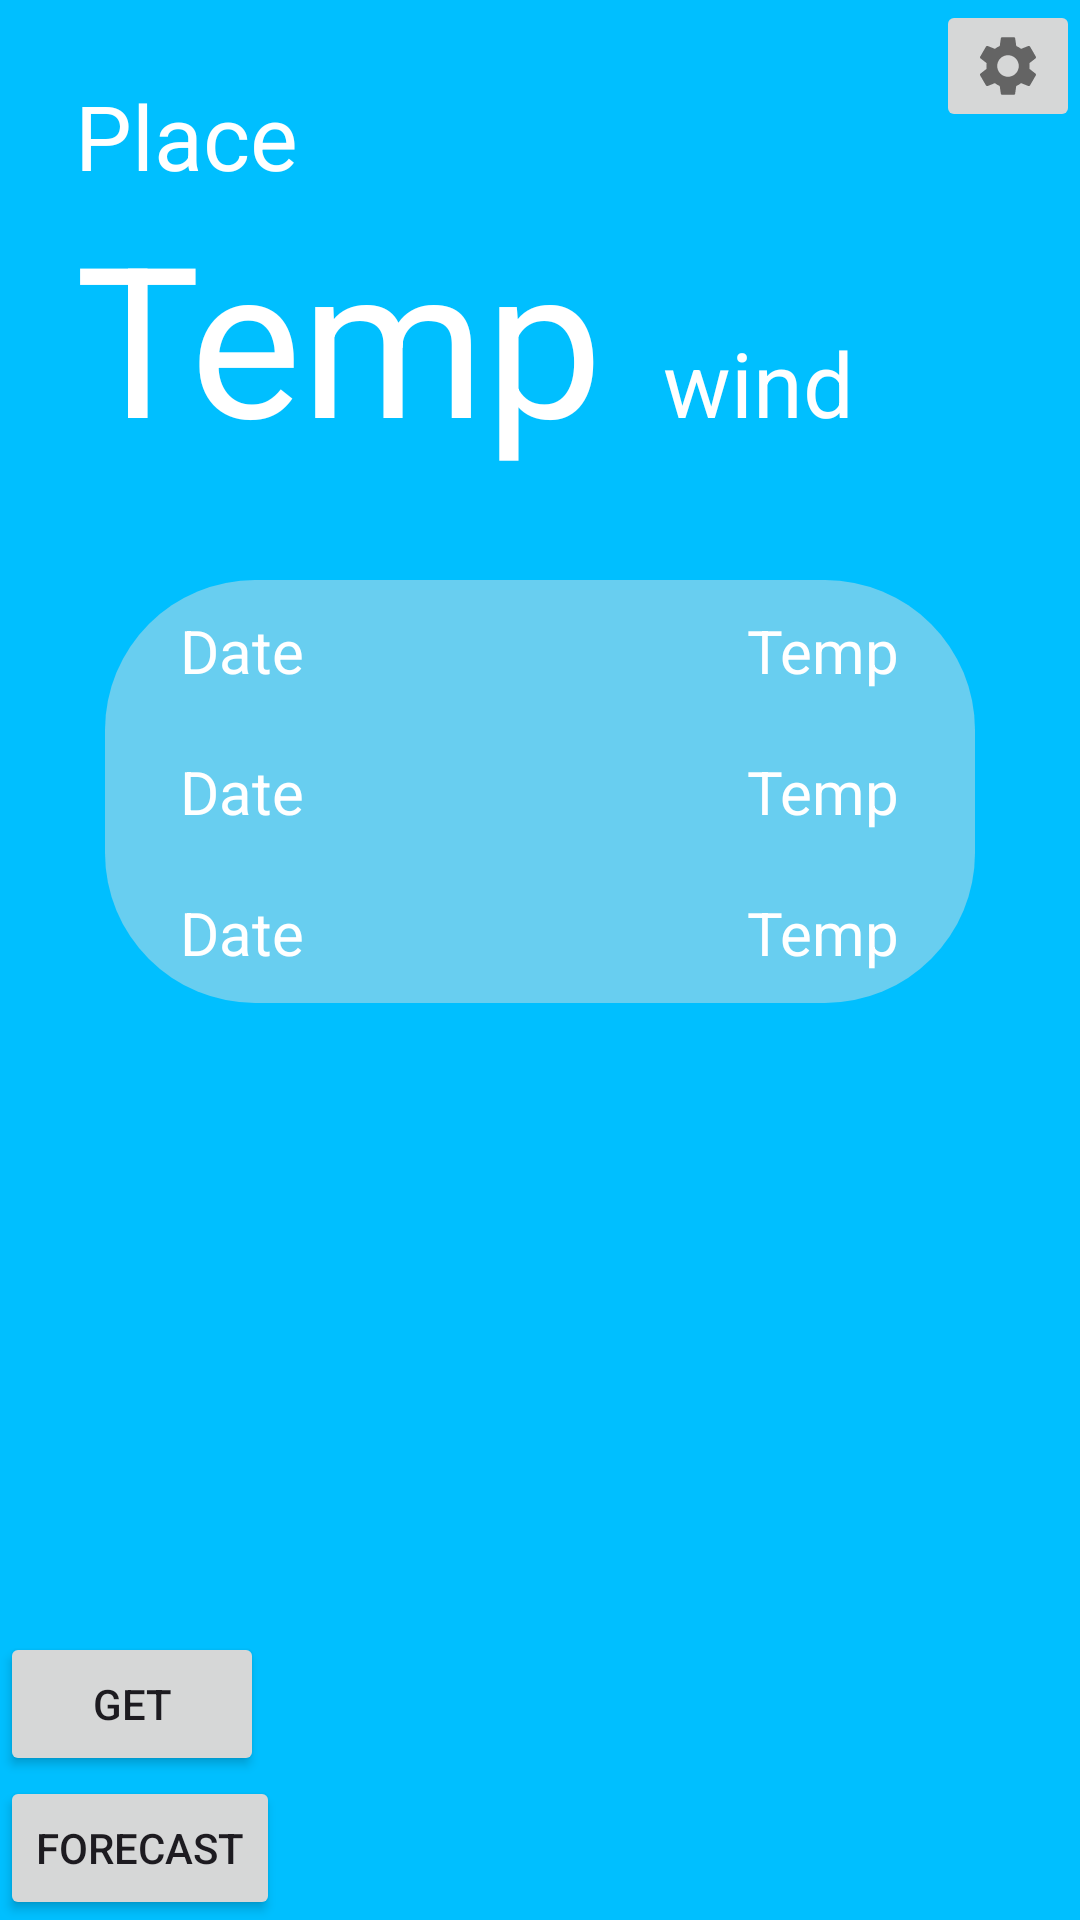

Icons on this 1080x1920 Android screen, each with its box as (x1, y1, x2, y2):
settings: (948, 18, 1068, 114)
